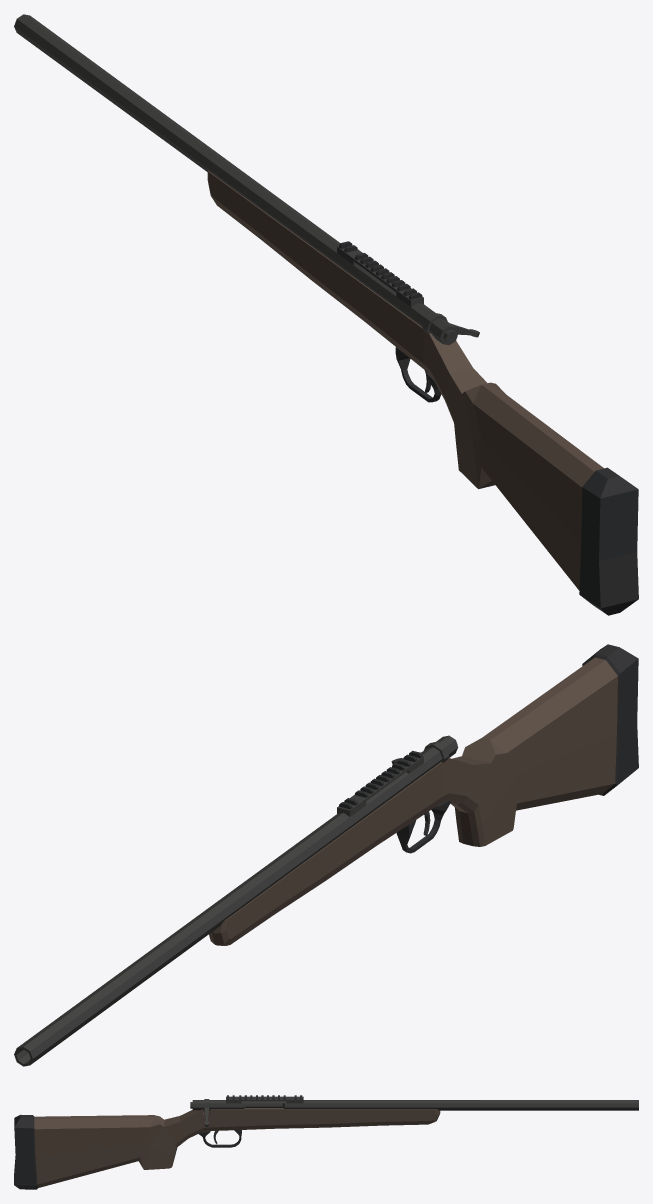
File: bolt_action_rifle_1.glb
3 renders of one model, top to bottom at view 1: azimuth 30°, elevation 25°; view 2: azimuth 150°, elevation 25°; view 3: azimuth 270°, elevation 25°, orthographic. The views are drawn at different scales.
Parts seen in each view (by area): view 1: BoltActionRifle_1; view 2: BoltActionRifle_1; view 3: BoltActionRifle_1.
Boxes of the visible parts, left/top/right/bottom form: BoltActionRifle_1: left=14, top=14, right=638, bottom=615; BoltActionRifle_1: left=14, top=644, right=638, bottom=1066; BoltActionRifle_1: left=14, top=1095, right=638, bottom=1189.
Size of the model in its own units: 0.0708 by 0.1893 by 1.16.
